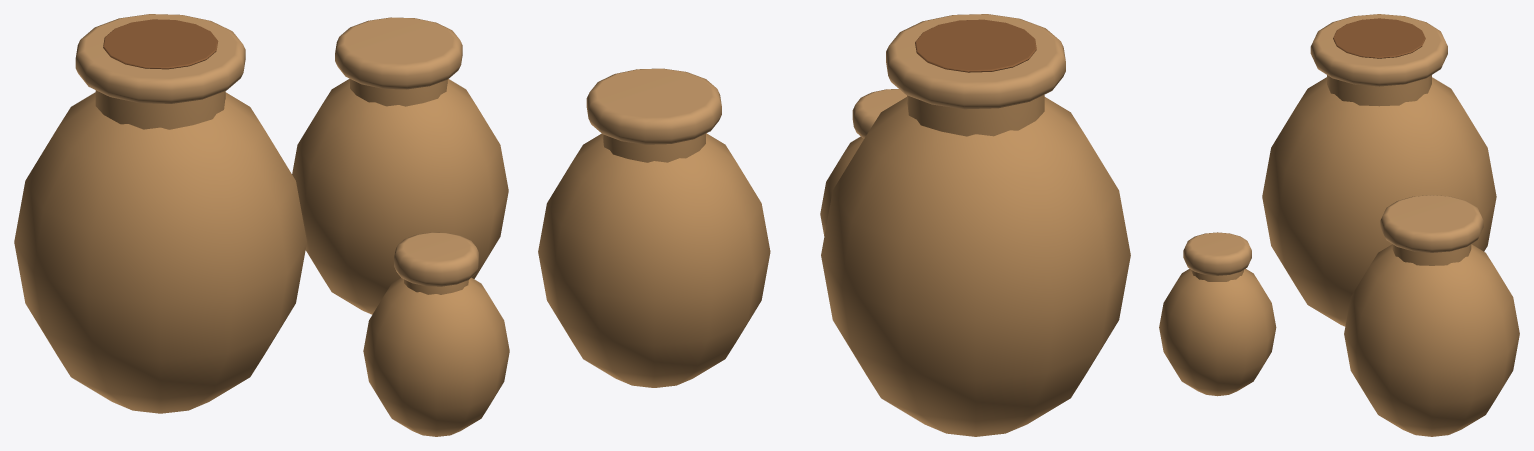
The model's file is NJD-16.glb.
3 views of the same model, side by side, from view 1: azimuth 30°, elevation 25°; view 2: azimuth 150°, elevation 25°; view 3: azimuth 270°, elevation 25° (orthographic). The views are drawn at different scales.
Parts seen in each view (by area): view 1: pot belly, pot belly.001, pot belly.002, pot rim, pot rim.001, dark opening, pot rim.002, pot neck, pot neck.001, pot neck.002; view 2: pot belly, pot belly.001, pot rim, pot rim.001, dark opening, pot neck, pot neck.001, pot rim.002, pot belly.002; view 3: pot belly, pot belly.001, pot belly.002, pot rim, pot rim.001, dark opening, pot rim.002, pot neck, pot neck.001.
Boxes of the visible parts, x1=… form: pot belly: x1=14, y1=92, x2=306, y2=413; pot belly.001: x1=292, y1=78, x2=508, y2=314; pot belly.002: x1=363, y1=277, x2=509, y2=436; pot rim: x1=75, y1=14, x2=245, y2=103; pot rim.001: x1=335, y1=17, x2=462, y2=89; dark opening: x1=103, y1=19, x2=218, y2=69; pot rim.002: x1=394, y1=232, x2=478, y2=286; pot neck: x1=95, y1=90, x2=225, y2=129; pot neck.001: x1=350, y1=79, x2=447, y2=106; pot neck.002: x1=404, y1=279, x2=468, y2=294; pot belly: x1=821, y1=97, x2=1130, y2=436; pot belly.001: x1=538, y1=133, x2=770, y2=387; pot rim: x1=886, y1=14, x2=1065, y2=109; pot rim.001: x1=586, y1=68, x2=721, y2=144; dark opening: x1=915, y1=19, x2=1036, y2=72; pot neck: x1=907, y1=94, x2=1044, y2=136; pot neck.001: x1=602, y1=133, x2=705, y2=162; pot rim.002: x1=852, y1=89, x2=906, y2=138; pot belly.002: x1=820, y1=136, x2=863, y2=235; pot belly: x1=1262, y1=77, x2=1496, y2=326; pot belly.001: x1=1344, y1=244, x2=1519, y2=436; pot belly.002: x1=1159, y1=268, x2=1276, y2=396; pot rim: x1=1310, y1=14, x2=1447, y2=86; pot rim.001: x1=1380, y1=195, x2=1483, y2=252; dark opening: x1=1333, y1=18, x2=1425, y2=58; pot rim.002: x1=1183, y1=232, x2=1251, y2=275; pot neck: x1=1327, y1=75, x2=1431, y2=106; pot neck.001: x1=1392, y1=244, x2=1471, y2=265.
Bounding box in the file's own units: 1.13 × 0.7845 × 0.8925.
